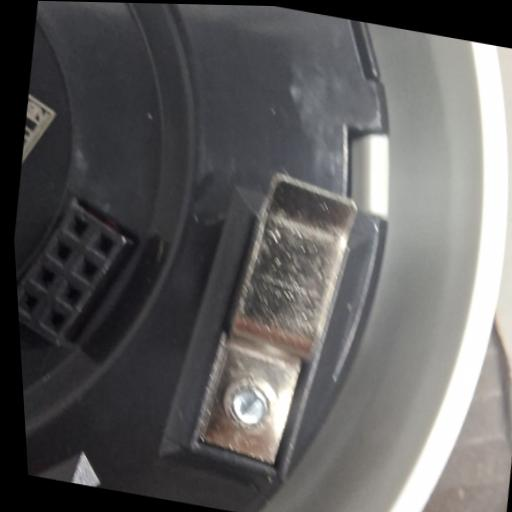yaysiz: (173, 161, 379, 484)
